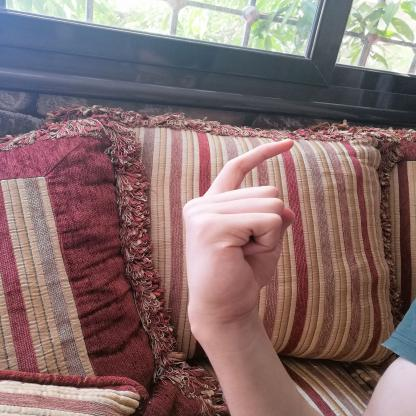RAA: (173, 128, 309, 338)
